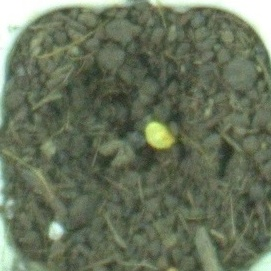chilli seed: (143, 120, 180, 151)
